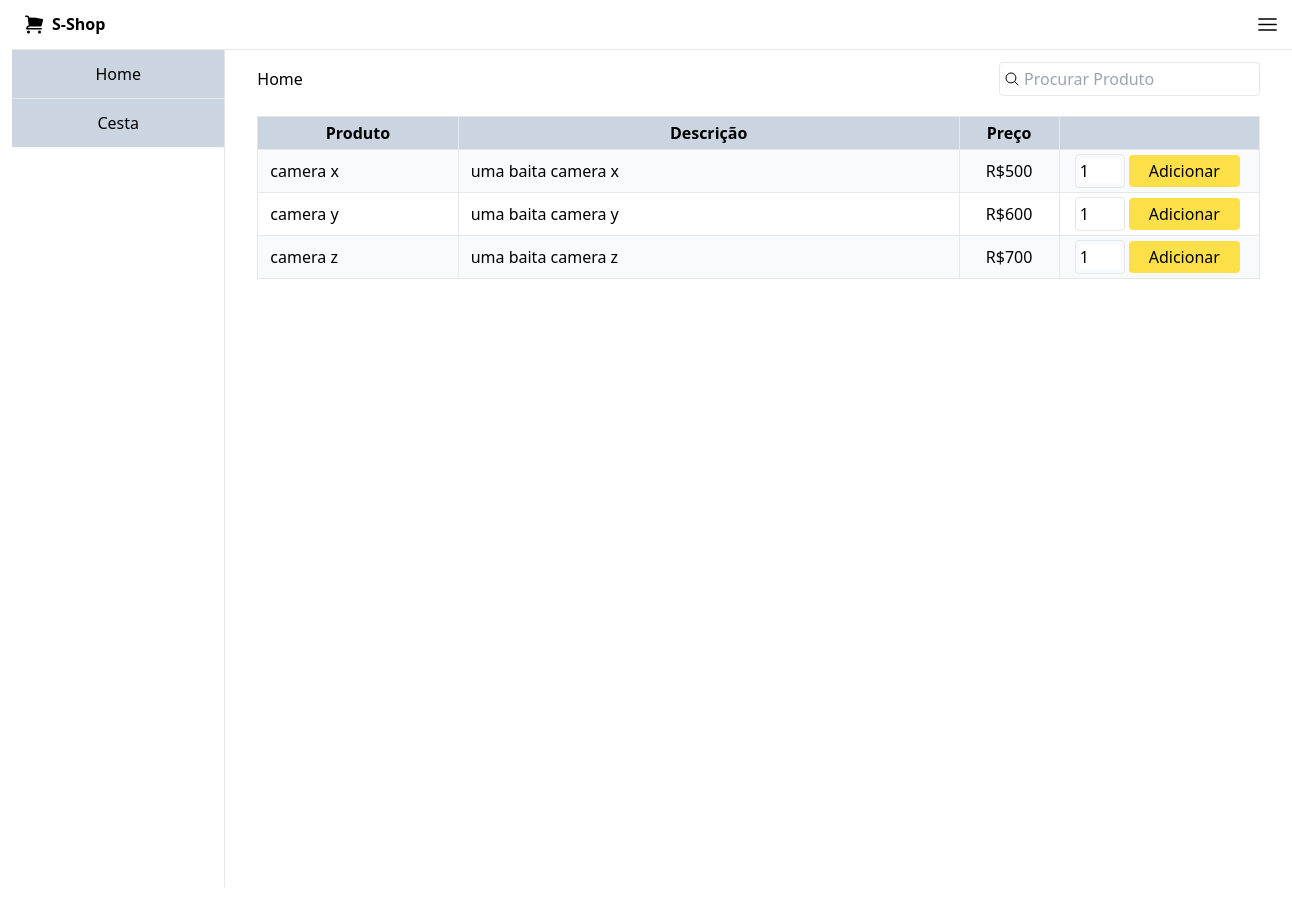
delete item from the cart
What coordinates should you click on to do the following:
click the button "Adicionar" in the row of "uma baita camera x"
I would click on:
 (1184, 171)
Its box is [1129, 155, 1240, 187].
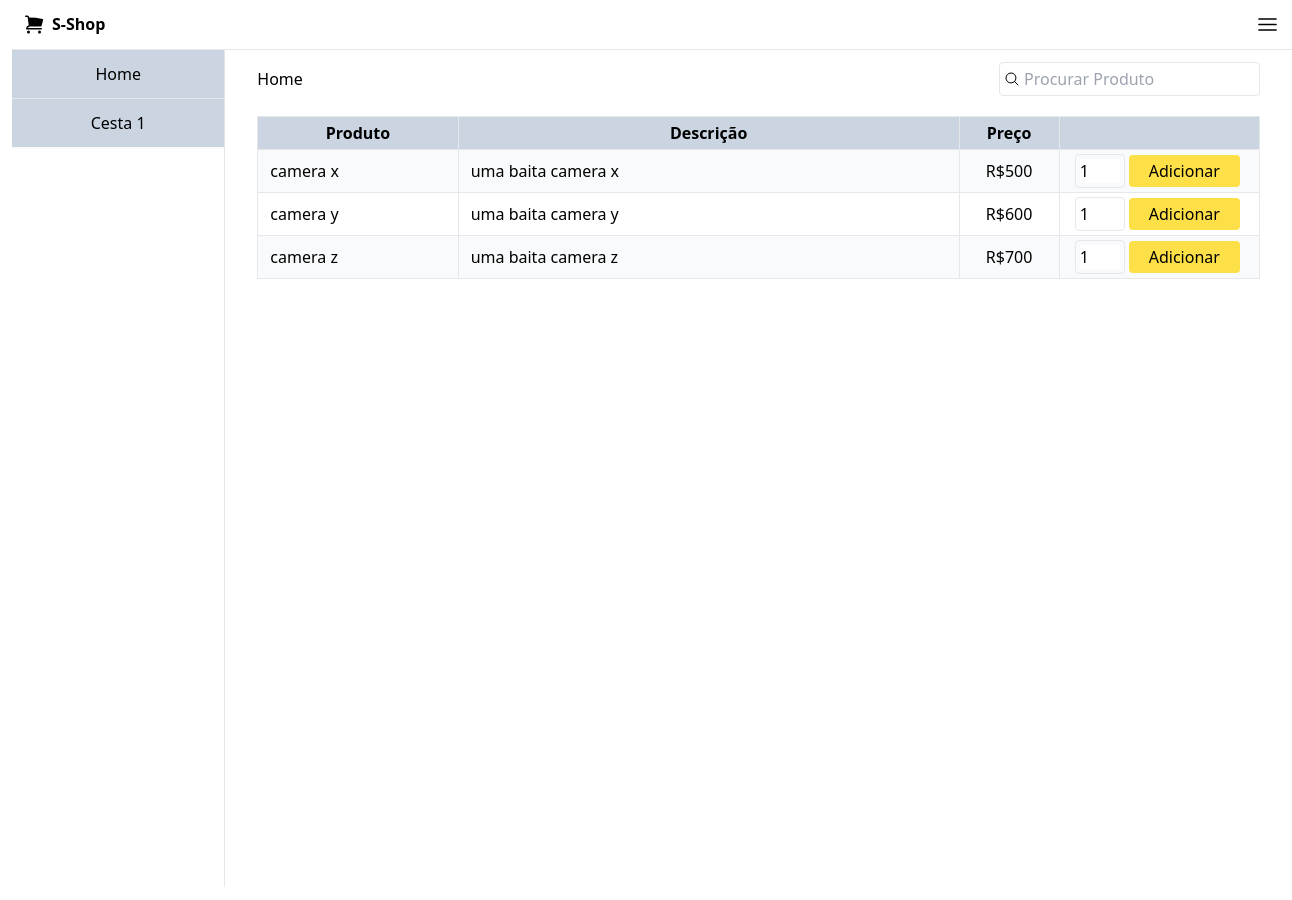
What coordinates should you click on to do the following:
click the button "Cesta 1"
I would click on:
 (118, 123)
Its box is [12, 99, 224, 147].
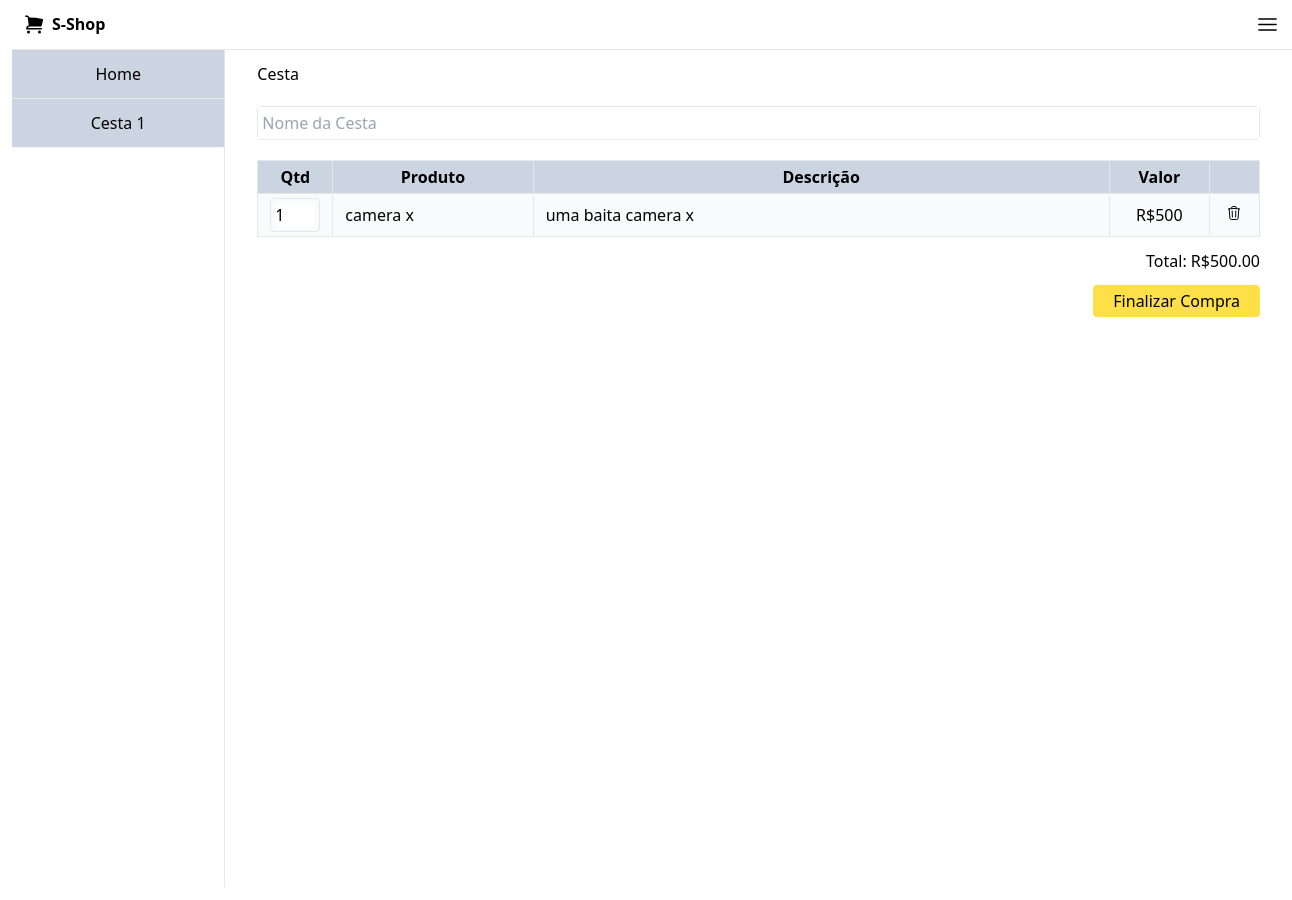
What coordinates should you click on to do the following:
click the button with alt text "Remove Item"
I would click on:
 (1234, 213)
Its box is [1226, 205, 1242, 221].
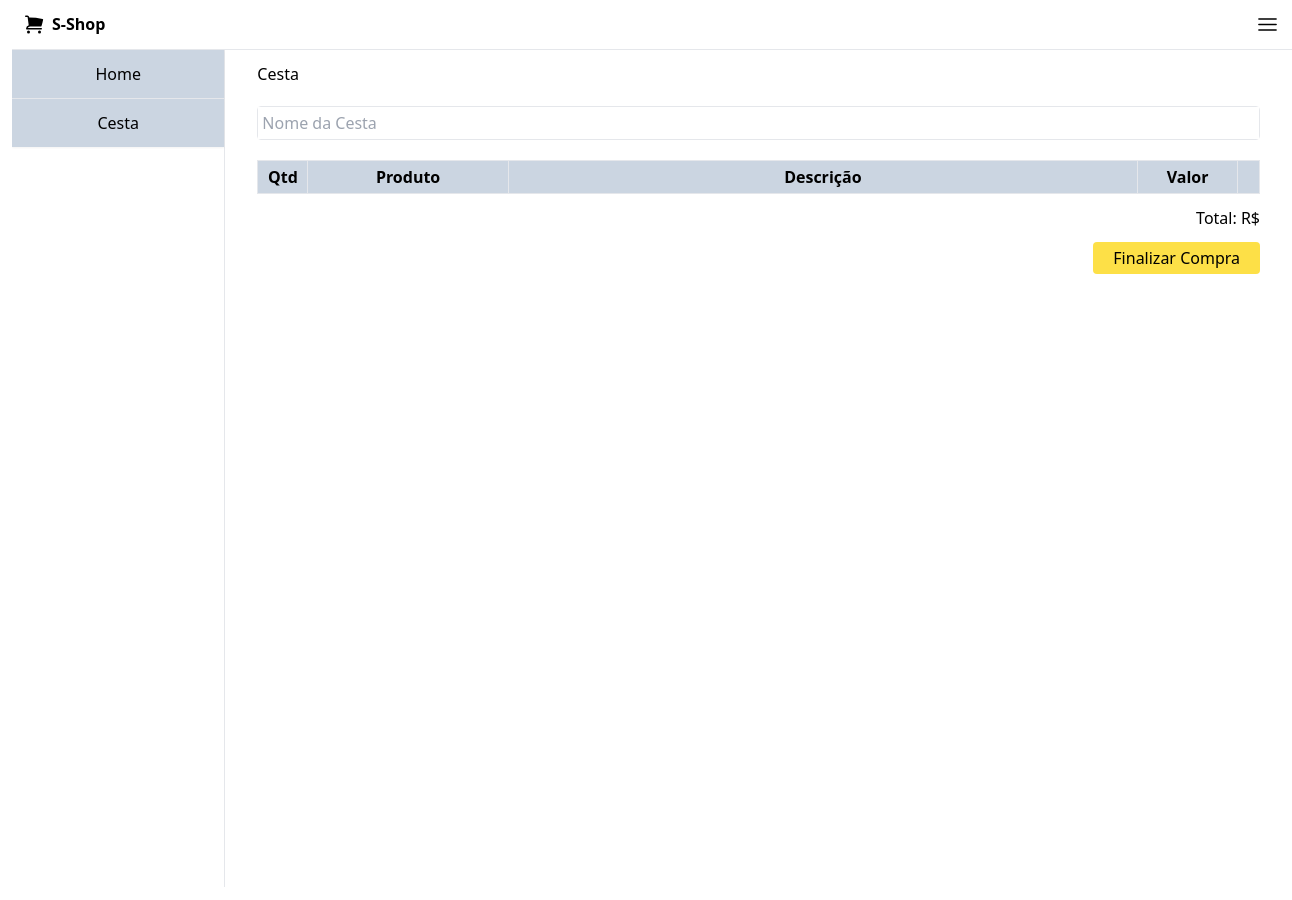
Expected: the number of rows is 1, [258, 160, 1260, 194]
